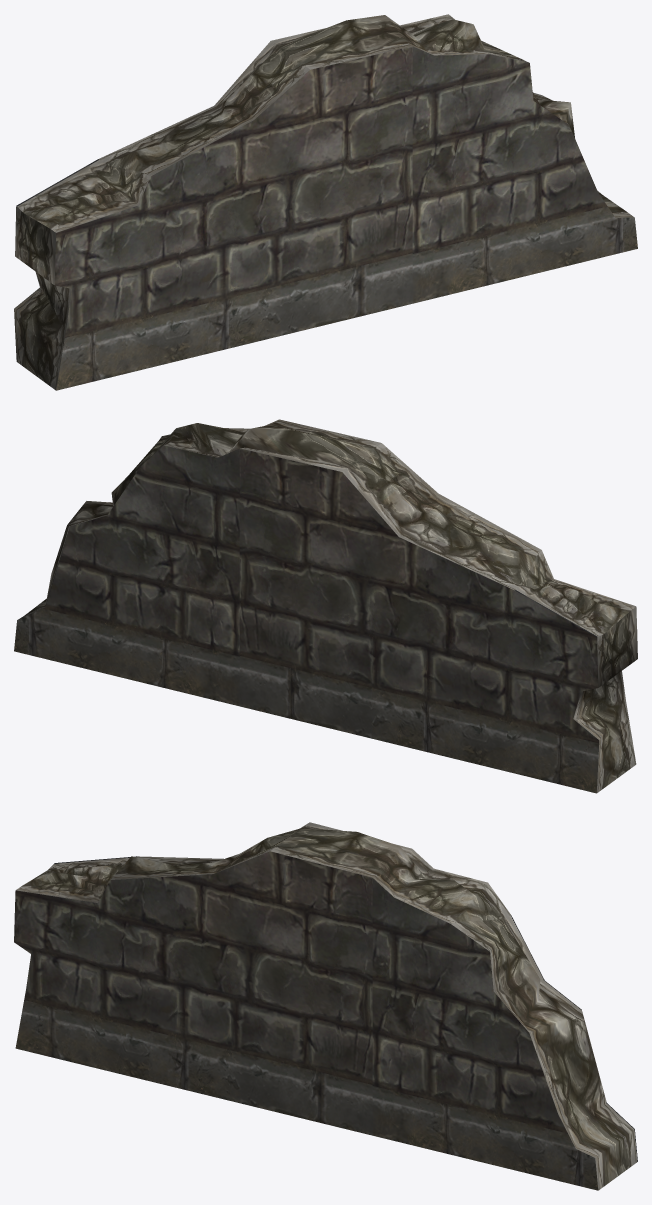
Rendered from Z_qiang005.fbx.
3 renders of one model, top to bottom at view 1: azimuth 30°, elevation 25°; view 2: azimuth 150°, elevation 25°; view 3: azimuth 330°, elevation 25°, orthographic.
Visible parts, largest first — view 1: Z_qiang005; view 2: Z_qiang005; view 3: Z_qiang005.
Boxes of the visible parts, box(x1,y1,x2,y2) form: Z_qiang005: box(14, 14, 637, 390); Z_qiang005: box(14, 419, 637, 793); Z_qiang005: box(14, 822, 637, 1190).
Size of the model in its own units: 641 by 286 by 74.69.
